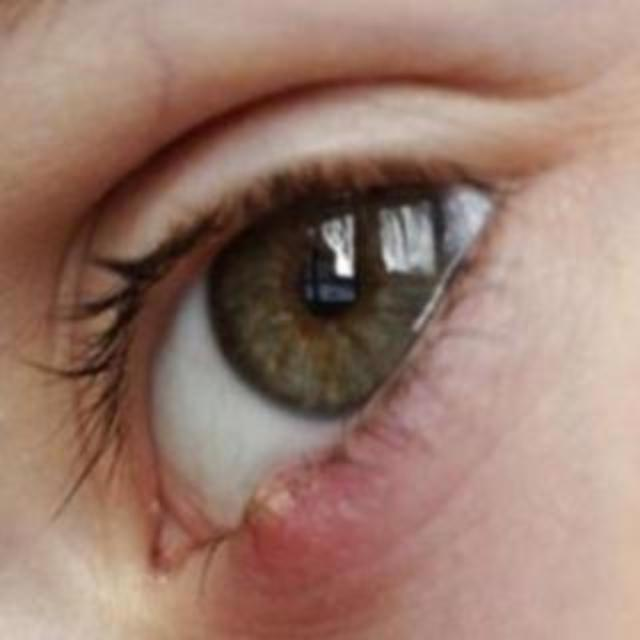Stye: (158, 385, 385, 617)
